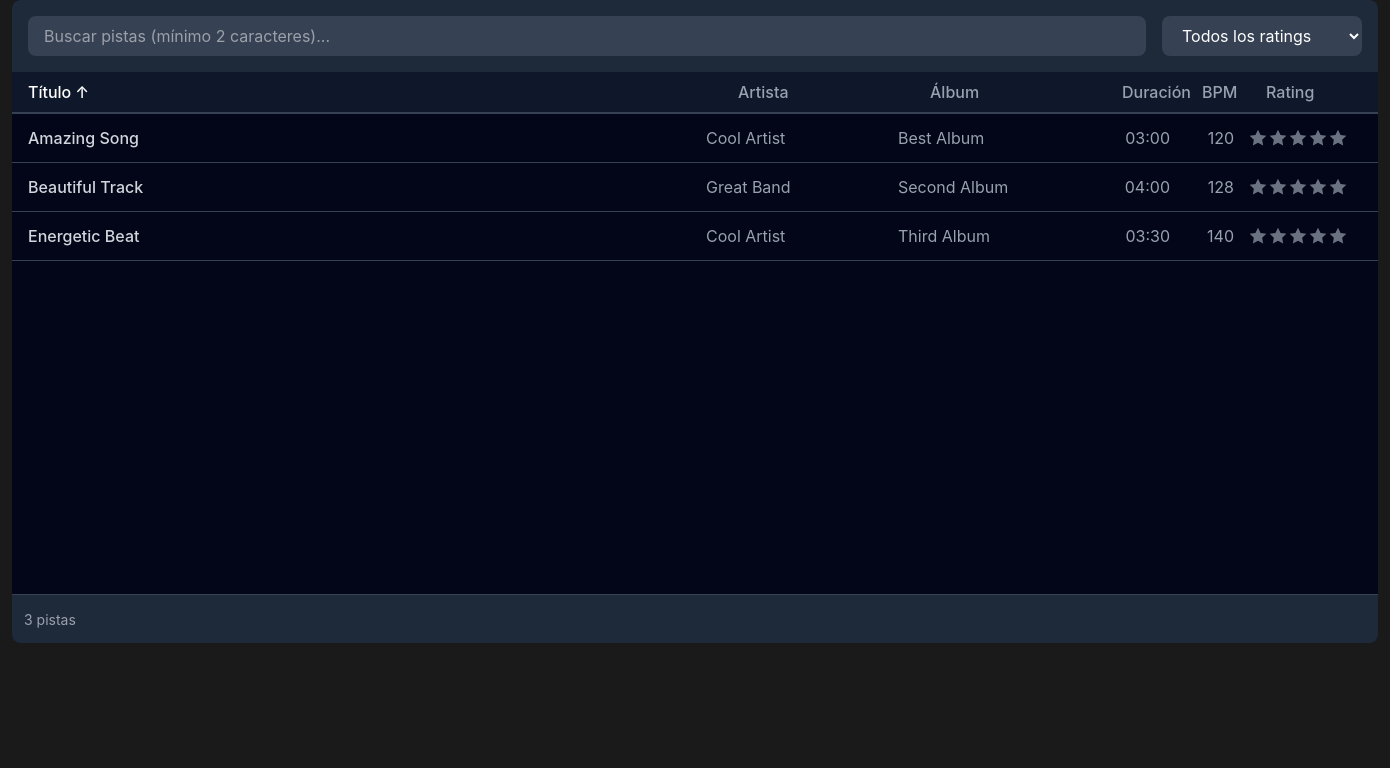
Test: TrackList › debería mostrar indicador de ordenamiento
What coordinates should you click on to do the following:
click the button "Título↑"
I would click on:
 (50, 92)
Its box is [12,72,722,112].
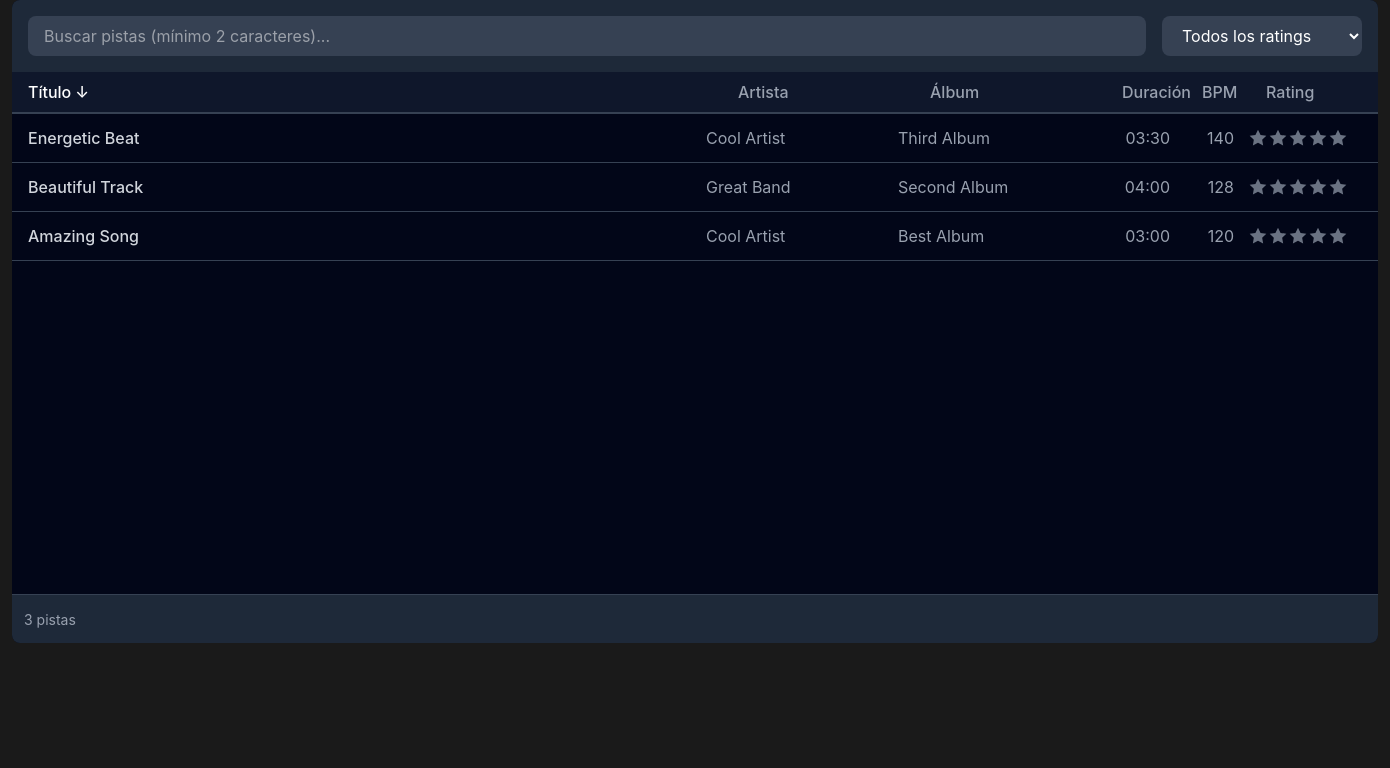
Expected: the button "Título↓" is shown, [12,72,722,112]
